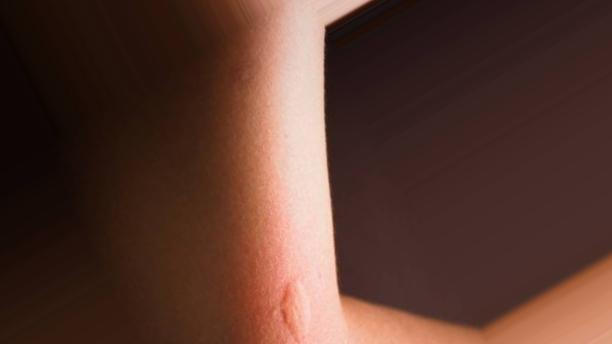Mosquito: (269, 279, 312, 344)
